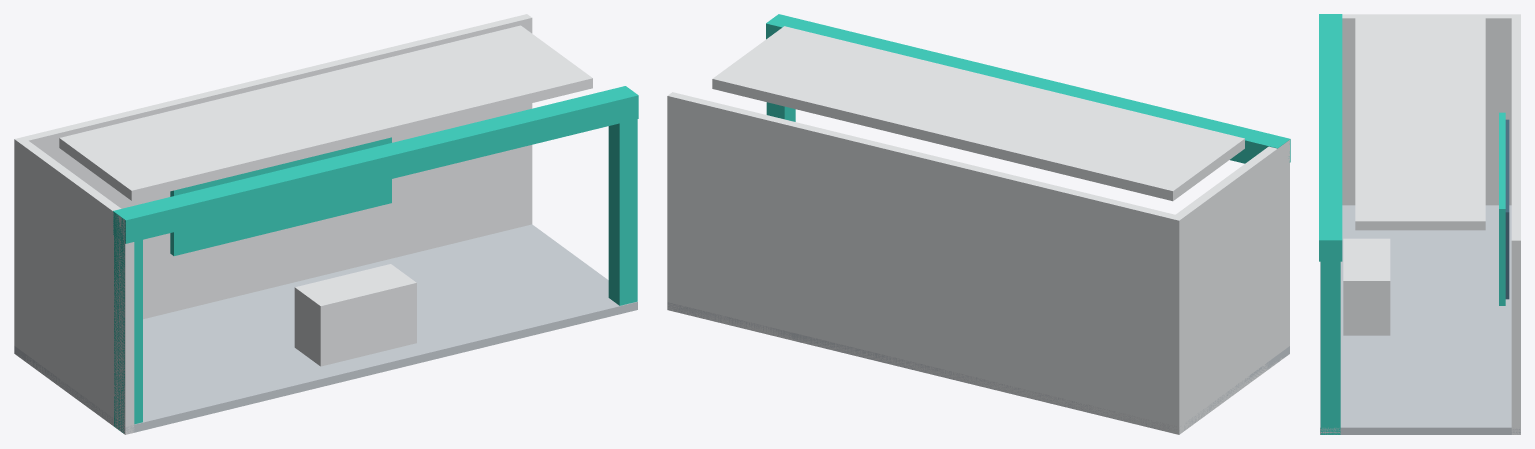
3 renders of one model, left to right at view 1: azimuth 30°, elevation 25°; view 2: azimuth 150°, elevation 25°; view 3: azimuth 270°, elevation 25°, orthographic. The views are drawn at different scales.
Visible parts, largest first — view 1: Exhibition Booth Concept; view 2: Exhibition Booth Concept; view 3: Exhibition Booth Concept.
Part boxes in pixels (x1=…): Exhibition Booth Concept: x1=14, y1=14, x2=638, y2=434; Exhibition Booth Concept: x1=667, y1=14, x2=1290, y2=434; Exhibition Booth Concept: x1=1319, y1=14, x2=1520, y2=434.
Bounding box in the file's own units: 8 × 3.34 × 3.01.
